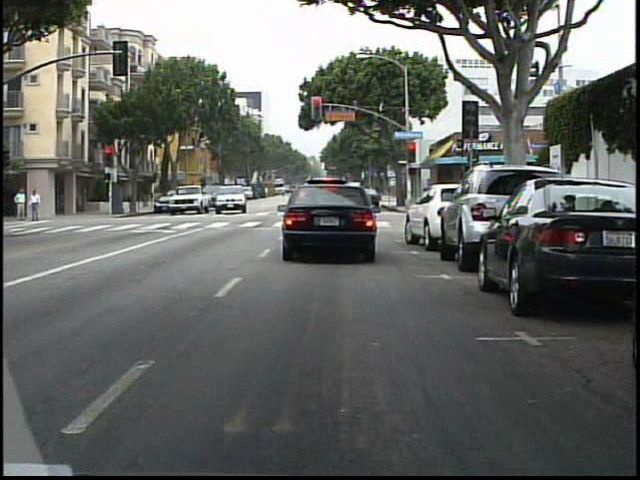person: (30, 187, 44, 223), (16, 185, 30, 220)
